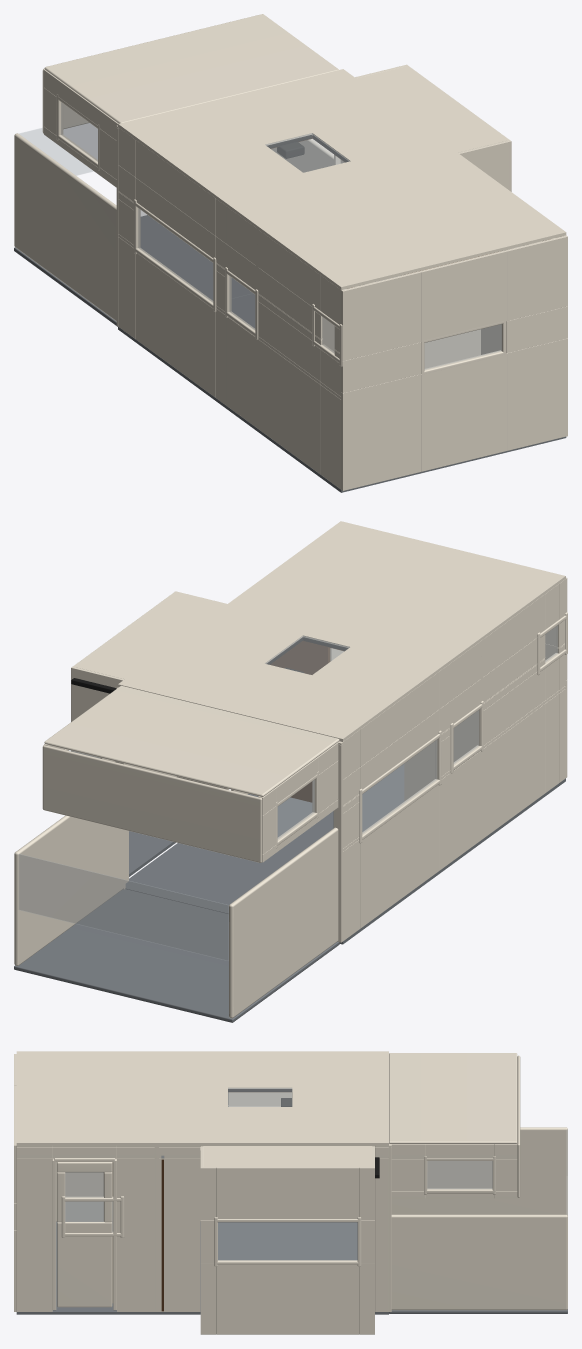
File: shell.glb
3 renders of one model, top to bottom at view 1: azimuth 30°, elevation 25°; view 2: azimuth 150°, elevation 25°; view 3: azimuth 270°, elevation 25°, orthographic. The views are drawn at different scales.
Parts seen in each view (by area): view 1: ceiling, shell_details, wall_rear, wall_off, slideout_shell, partition, floor, bulkhead; view 2: shell_details, ceiling, wall_off, floor, slideout_shell, partition, bulkhead, wall_rear; view 3: shell_details, ceiling, slideout_shell, wall_kerb, entry_door, floor, wall_off, partition, wall_rear, bulkhead.
Boxes of the visible parts, box(x1,y1,x2,y2) form: ceiling: box(118, 69, 566, 290); shell_details: box(14, 14, 506, 376); wall_rear: box(341, 235, 567, 490); wall_off: box(118, 127, 341, 489); slideout_shell: box(355, 64, 511, 191); partition: box(256, 228, 480, 427); floor: box(118, 293, 566, 492); bulkhead: box(116, 125, 340, 326); shell_details: box(14, 612, 567, 1022); ceiling: box(118, 521, 565, 741); wall_off: box(343, 579, 565, 940); floor: box(125, 764, 565, 944); slideout_shell: box(71, 591, 229, 876); partition: box(330, 640, 483, 840); bulkhead: box(116, 687, 342, 942); wall_rear: box(545, 577, 567, 777); shell_details: box(61, 1053, 567, 1313); ceiling: box(16, 1051, 388, 1145); slideout_shell: box(200, 1146, 374, 1334); wall_kerb: box(16, 1145, 388, 1311); entry_door: box(52, 1158, 116, 1310); floor: box(16, 1221, 388, 1314); wall_off: box(52, 1092, 291, 1221); partition: box(154, 1145, 158, 1311); wall_rear: box(14, 1054, 16, 1311); bulkhead: box(389, 1144, 391, 1311).
Bounding box in the file's own units: 2.97 × 2.07 × 6.03.
